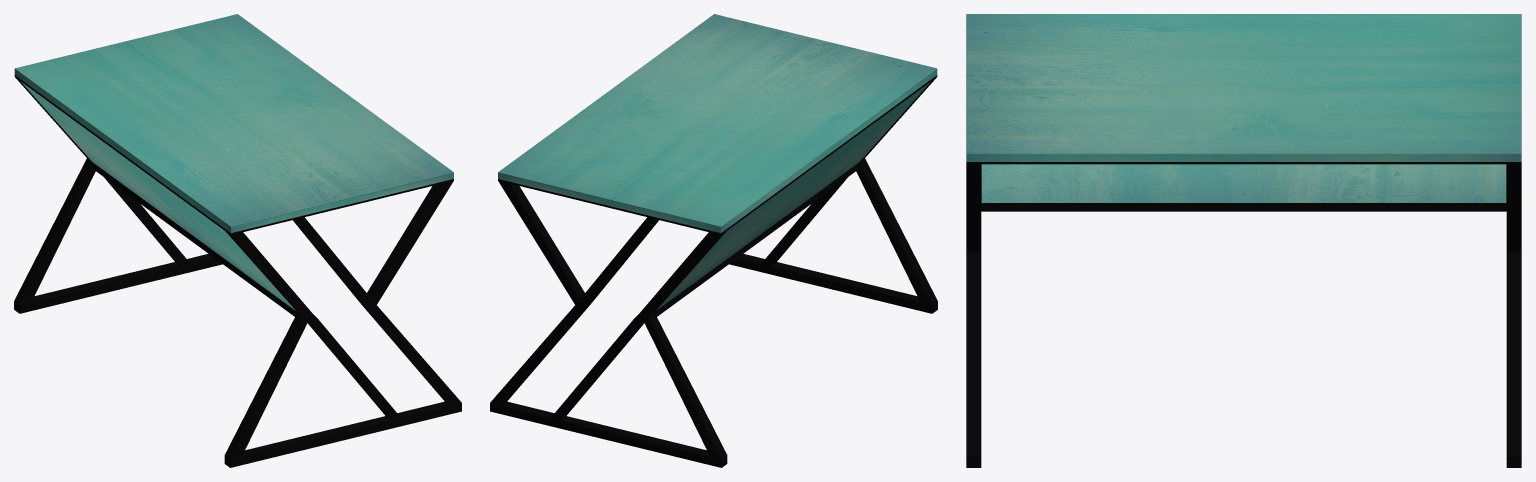
Rendered from office_table-01.glb.
3 views of the same model, side by side, from view 1: azimuth 30°, elevation 25°; view 2: azimuth 150°, elevation 25°; view 3: azimuth 270°, elevation 25° (orthographic). The views are drawn at different scales.
Parts seen in each view (by area): view 1: polySurface1; view 2: polySurface1; view 3: polySurface1.
Part boxes in pixels (x1,y1,x2,y2): polySurface1: (14,14,461,467); polySurface1: (490,14,937,467); polySurface1: (966,14,1521,467).
Size of the model in its own units: 4.92 by 4.89 by 7.95.
Materials: 3 (2 with a texture image).
